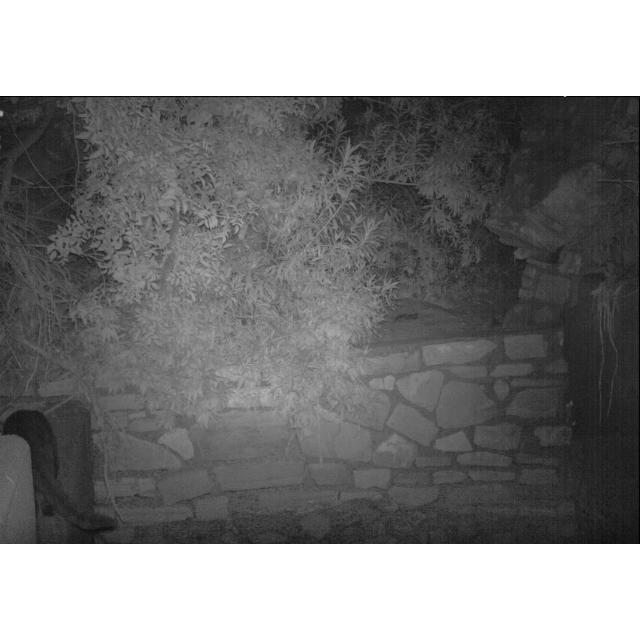animals: (0, 406, 121, 532)
